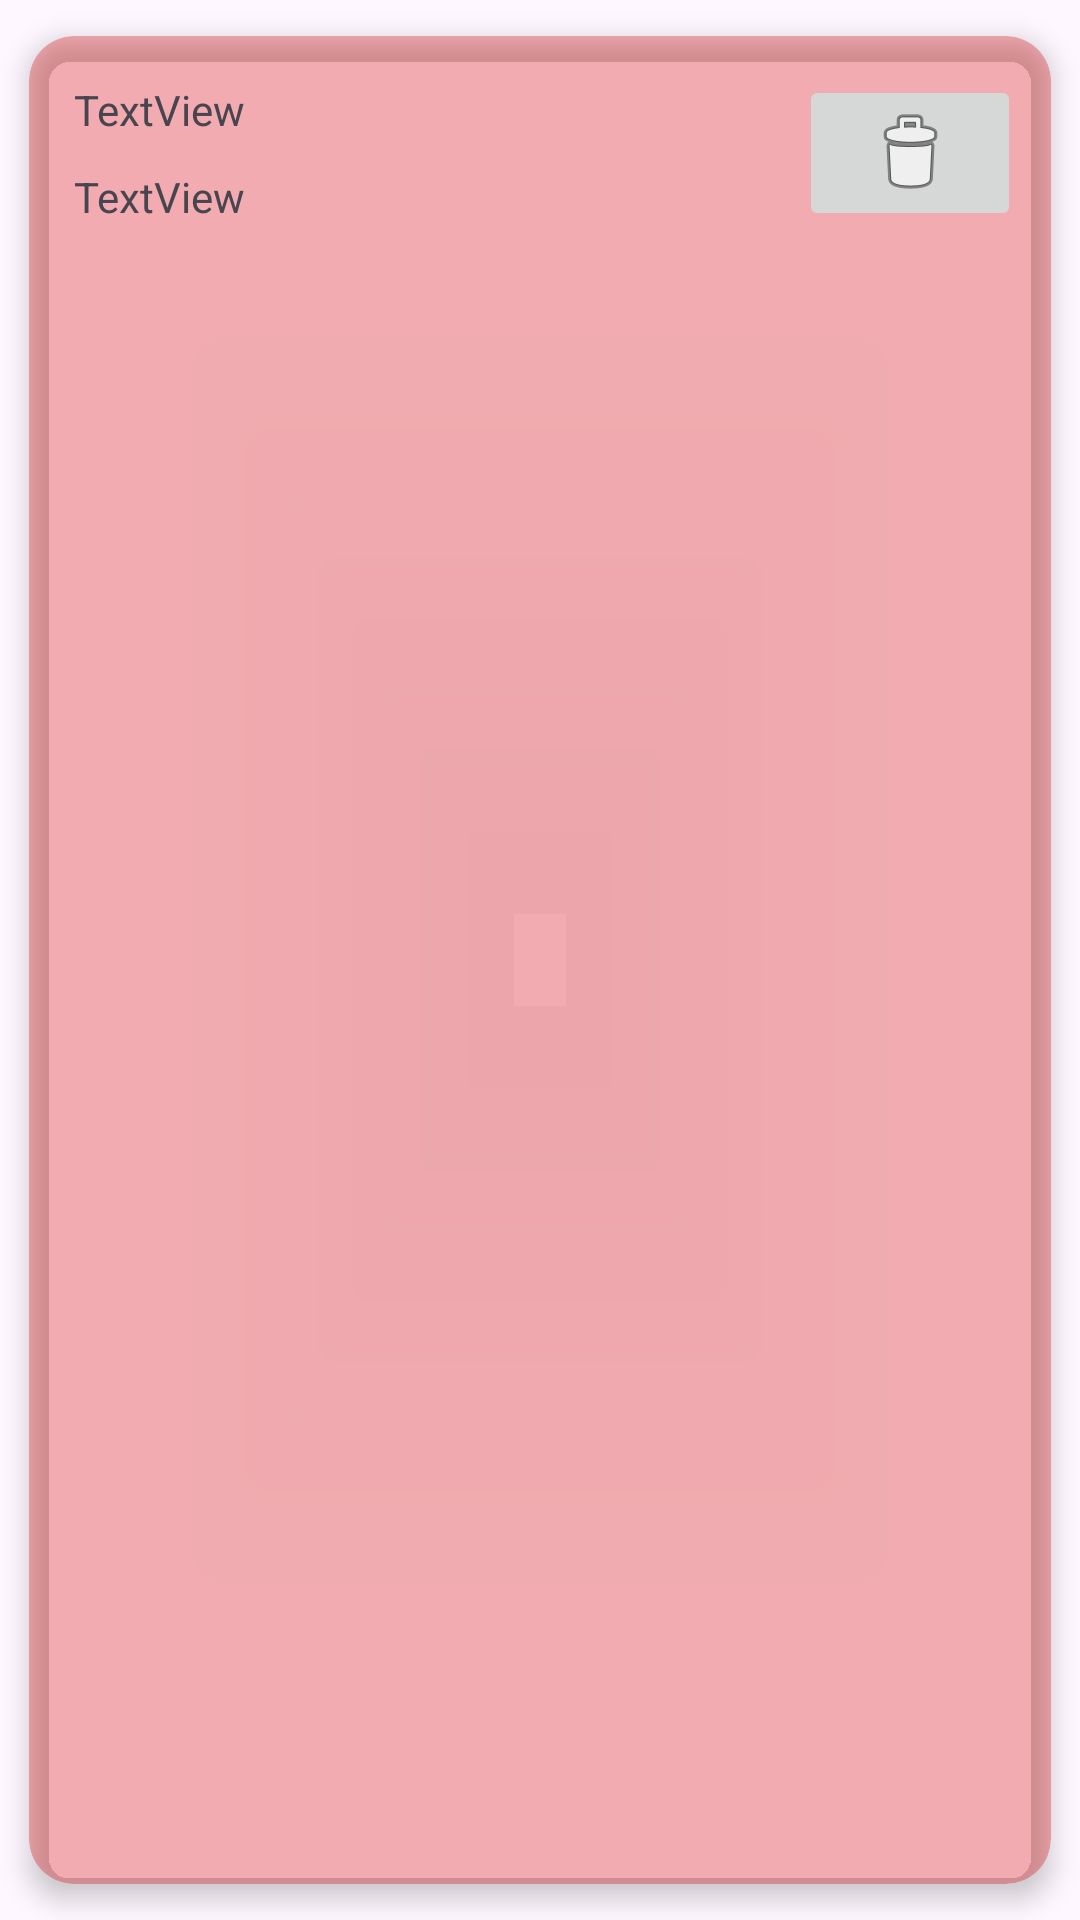

Where to tap for icons on this 1080px×1920px app screen, as [x,y]:
delete: [910,153]
